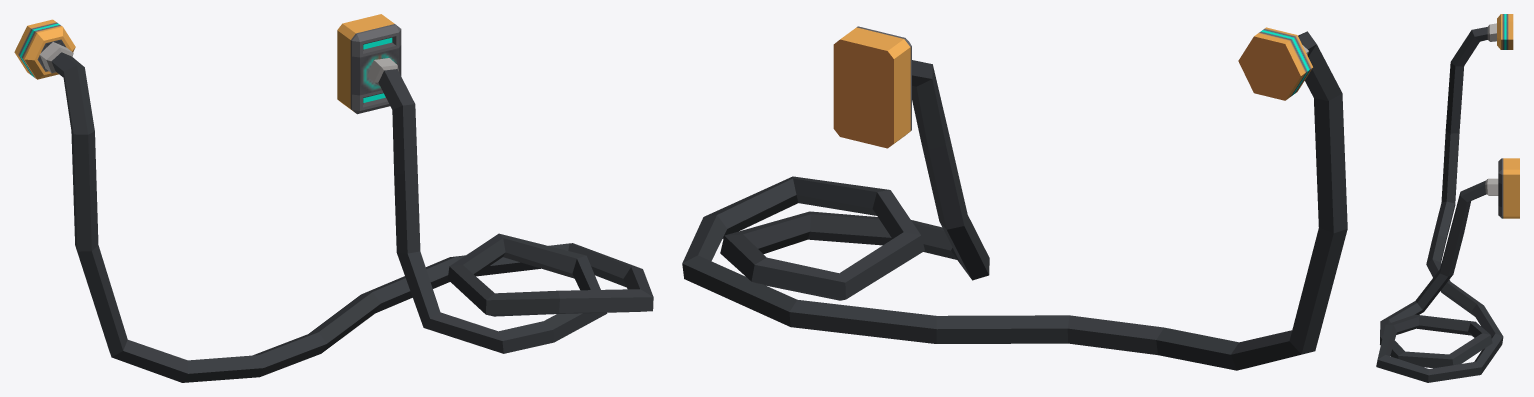
File: SM_Prop_Wires_15.fbx
3 renders of one model, left to right at view 1: azimuth 30°, elevation 25°; view 2: azimuth 150°, elevation 25°; view 3: azimuth 270°, elevation 25°, orthographic. The views are drawn at different scales.
Visible parts, largest first — view 1: SM_Prop_Wires_15; view 2: SM_Prop_Wires_15; view 3: SM_Prop_Wires_15.
Part boxes in pixels (left/top/right/bottom): SM_Prop_Wires_15: left=14, top=14, right=653, bottom=382; SM_Prop_Wires_15: left=682, top=26, right=1347, bottom=370; SM_Prop_Wires_15: left=1376, top=14, right=1519, bottom=382.
Bounding box in the file's own units: 154 × 90.35 × 56.27.
